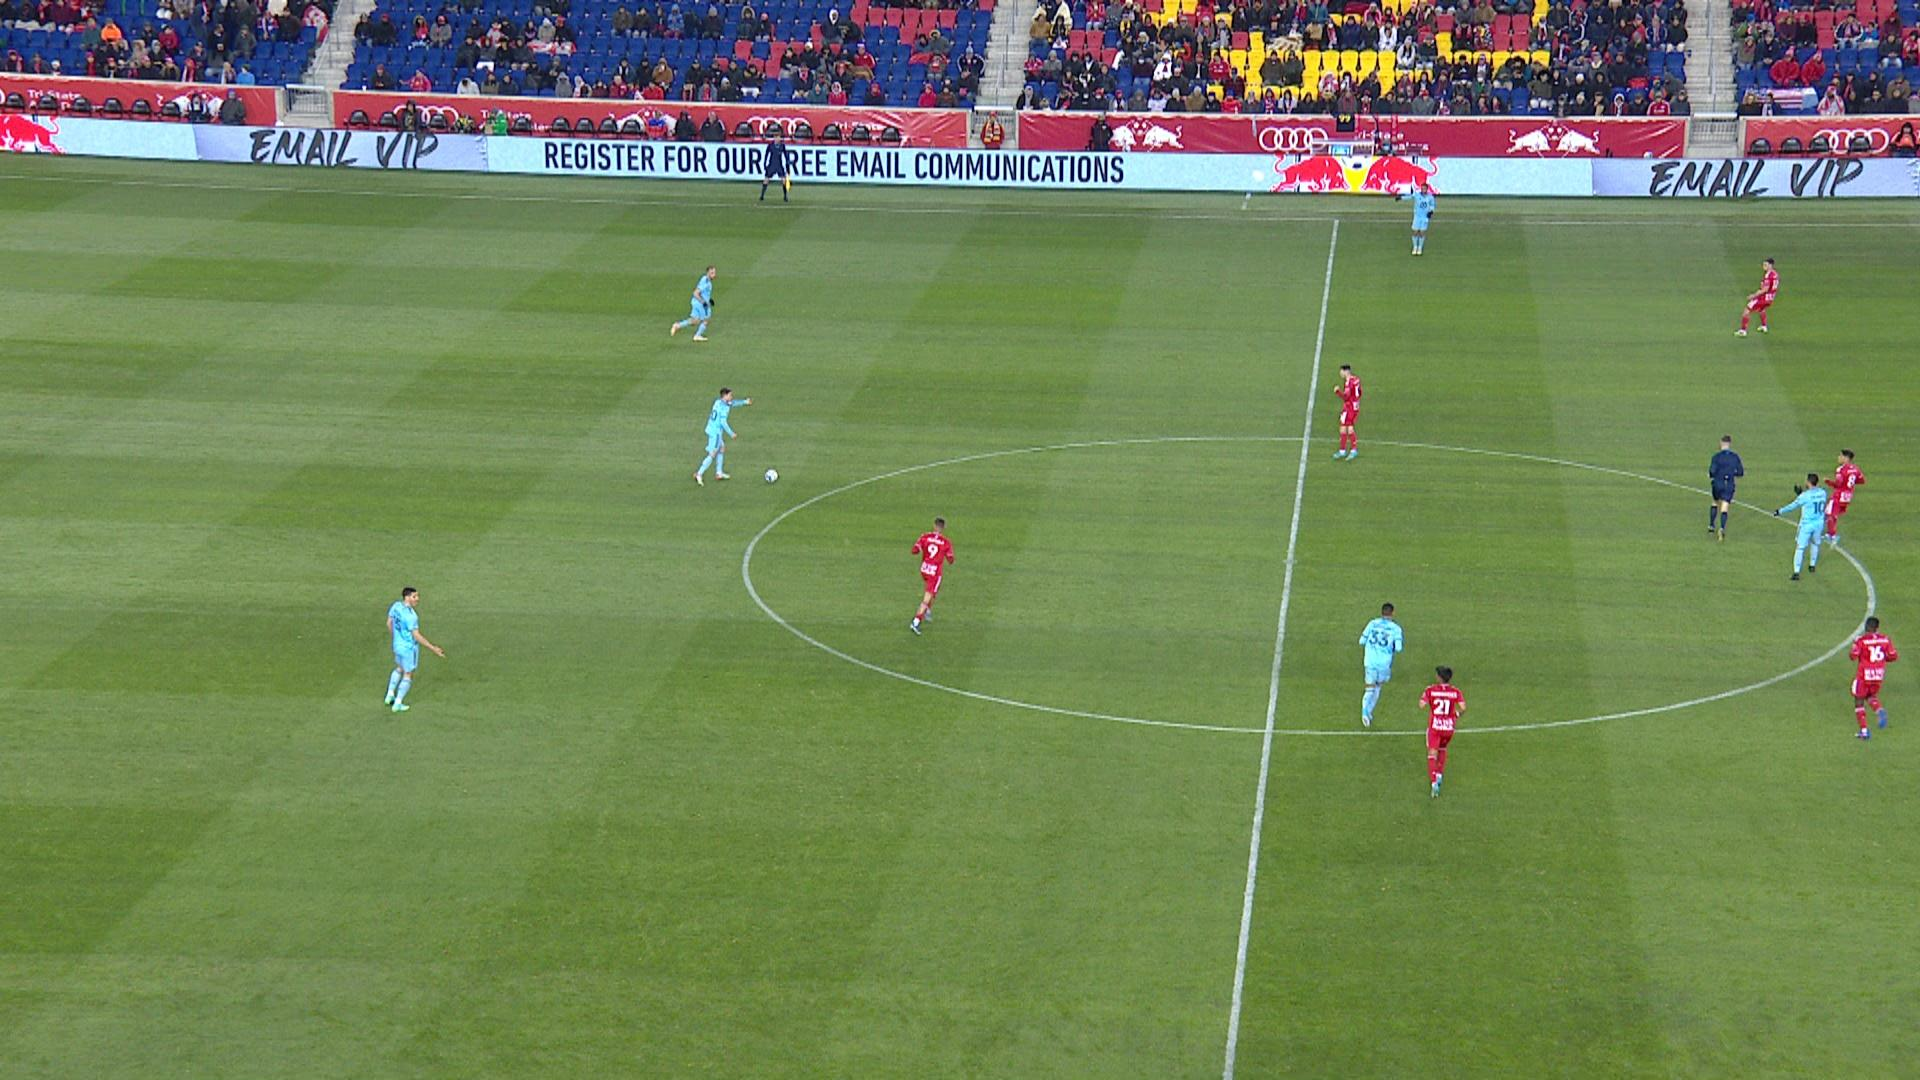football: (764, 468, 779, 484)
